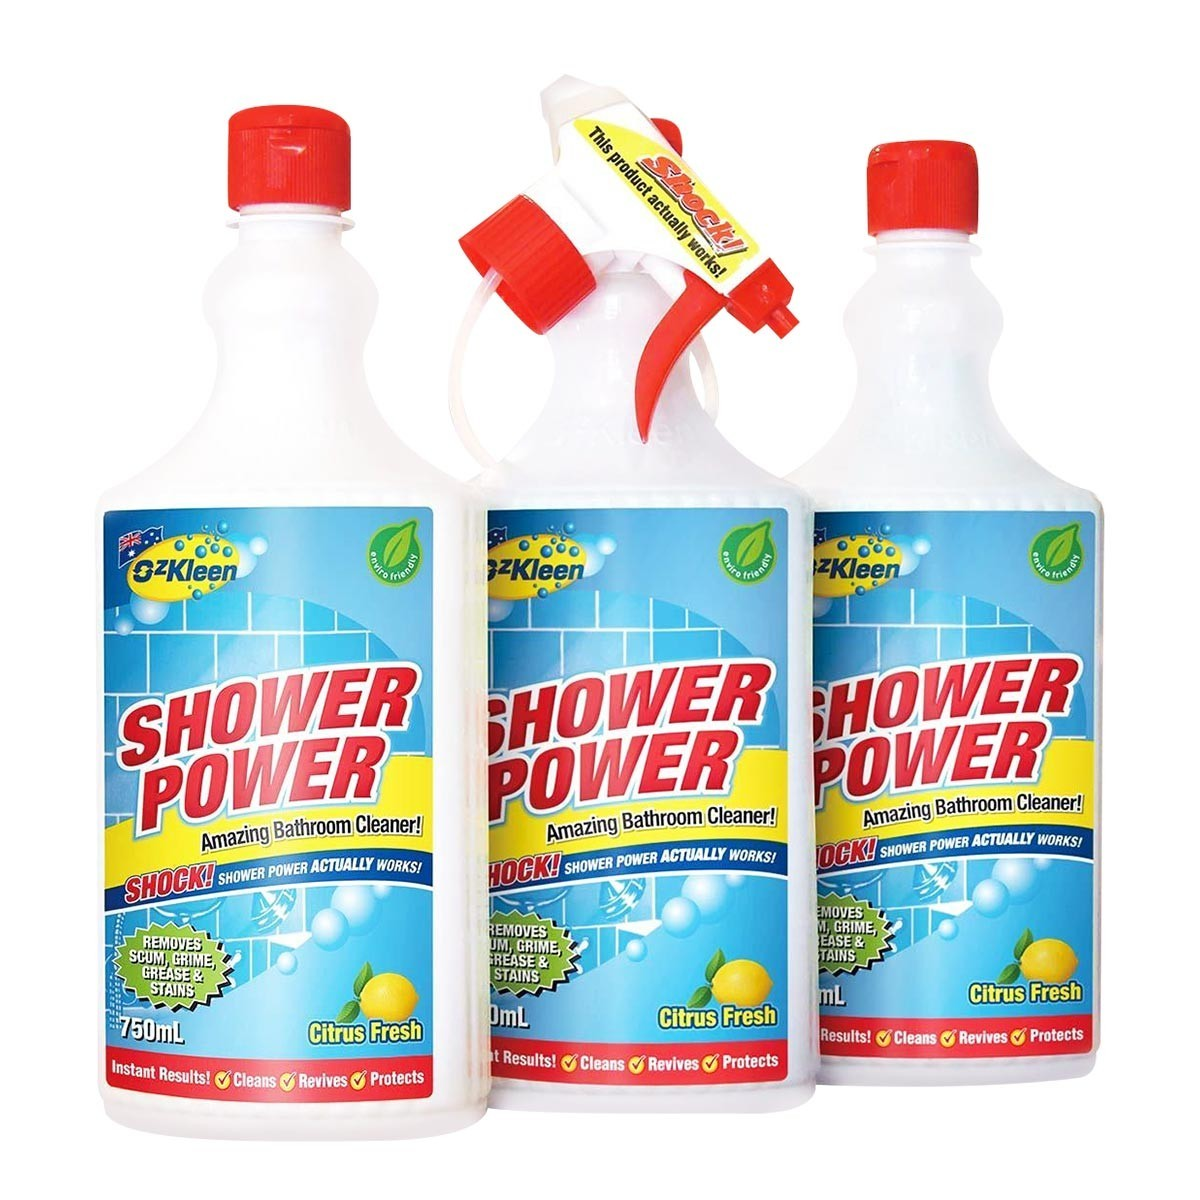cleaner: (413, 74, 824, 1116), (92, 103, 504, 1137), (714, 136, 1115, 1088)
